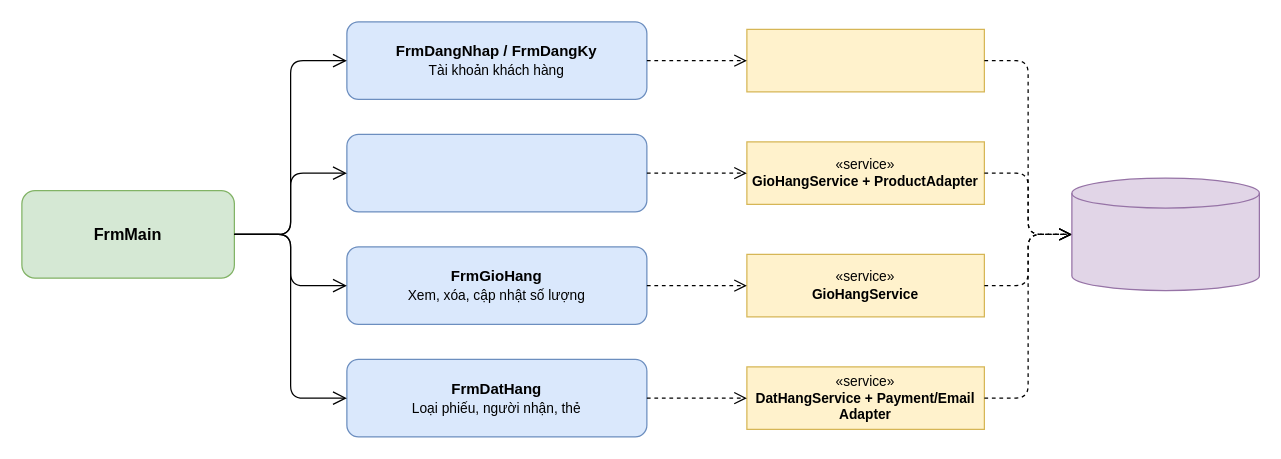
This 1281x459 diagram has some shape labels left out. The centre of each missing label's shape, as x and y in pixels:
"FrmSanPham Xem nhóm, danh sách, chi tiết" goes at point 496,172.
"SQL Server eShoppingDB" goes at point 1165,234.
"«service» TaiKhoanService" goes at point 865,60.
